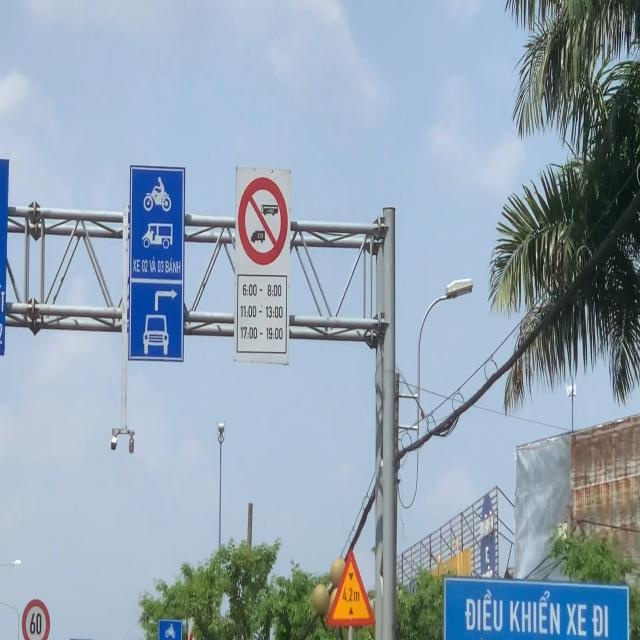bien_cam: (327, 548, 375, 627), (22, 598, 50, 640)
